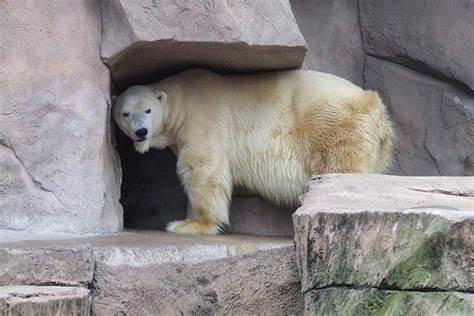bear: (112, 68, 396, 239)
